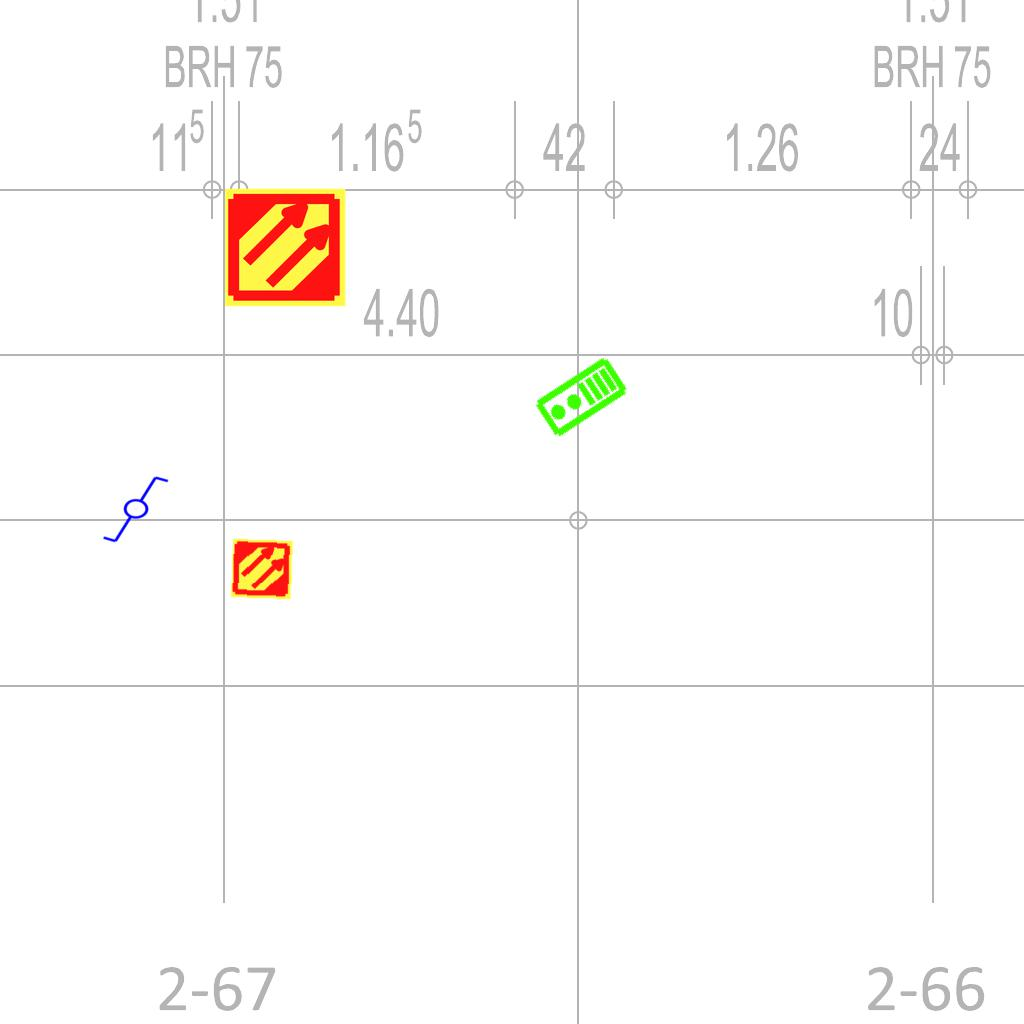ASR_Ansaugrauchmelder: (223, 185, 348, 310), (229, 536, 295, 602)
Gegensprechanlage_mit_Video: (531, 354, 632, 442)
Wechselschalter: (101, 474, 179, 546)
